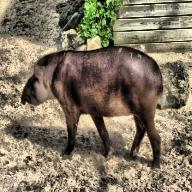boar: (21, 45, 164, 169)
